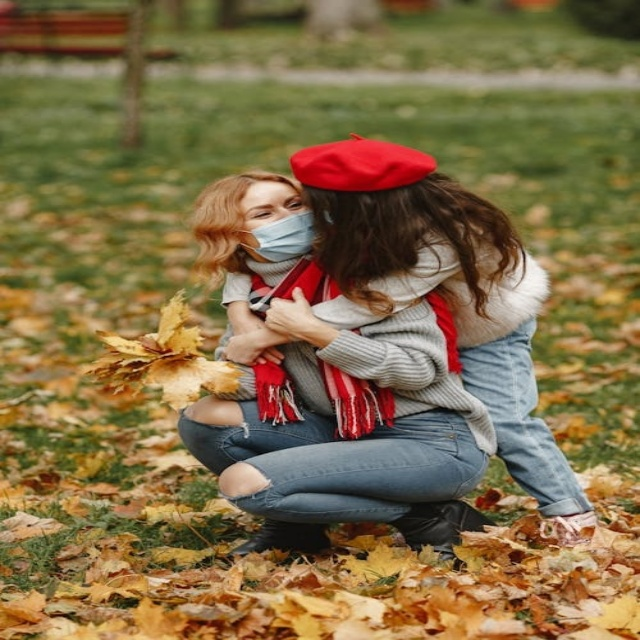Mascara: (237, 210, 321, 261)
Sin_gafas: (236, 192, 308, 223)
Sin_guantes: (260, 281, 324, 340), (220, 319, 288, 366)
